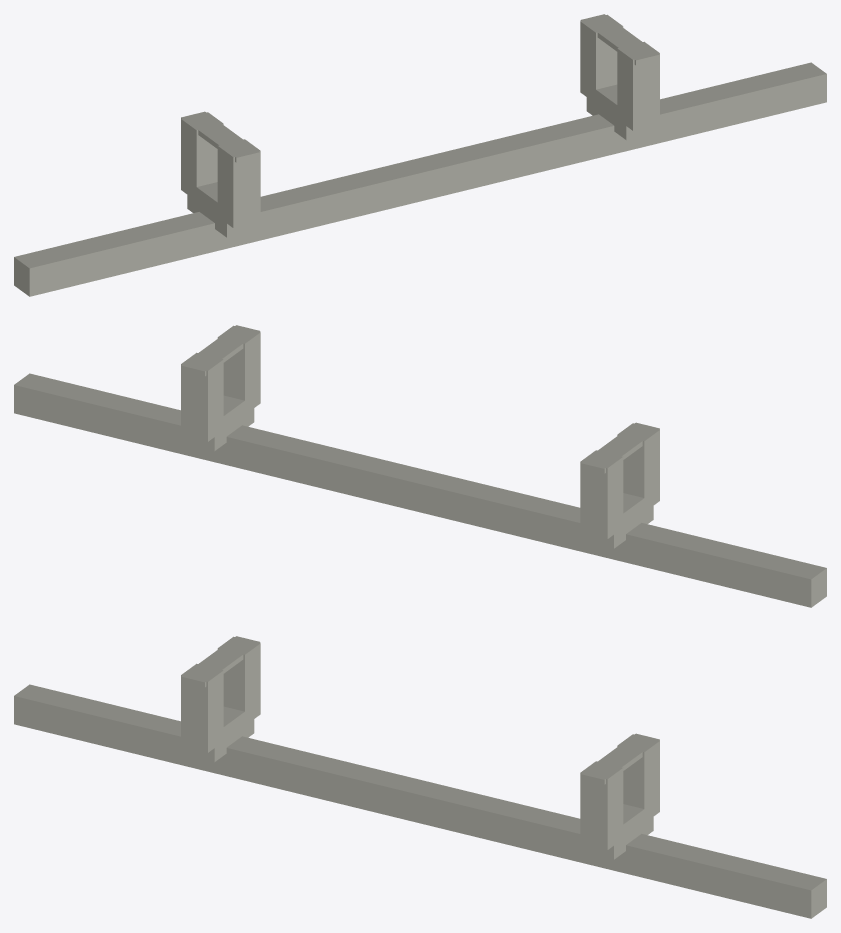
Rendered from SM_CatenariaLosa_v0_Rigida_LOD1.fbx.
The picture shows the model from 3 angles, top to bottom: view 1: azimuth 30°, elevation 25°; view 2: azimuth 150°, elevation 25°; view 3: azimuth 330°, elevation 25°; orthographic projection.
Parts seen in each view (by area): view 1: SM_catenaria_losa_v0_LOD1; view 2: SM_catenaria_losa_v0_LOD1; view 3: SM_catenaria_losa_v0_LOD1.
Part boxes in pixels (x1,y1,x2,y2): SM_catenaria_losa_v0_LOD1: (14, 14, 826, 296); SM_catenaria_losa_v0_LOD1: (14, 325, 826, 607); SM_catenaria_losa_v0_LOD1: (14, 636, 826, 918).
Size of the model in its own units: 9.98 by 1.29 by 1.2.
